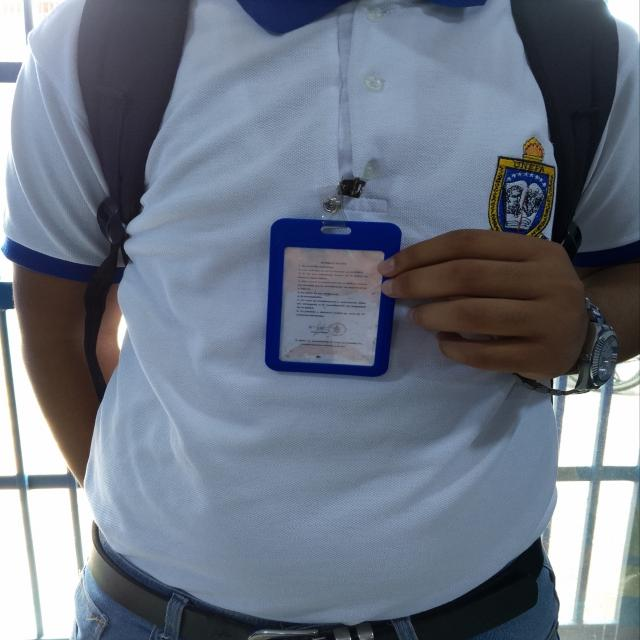carnet: (279, 246, 386, 367)
uniforme_superior: (1, 0, 640, 626)
